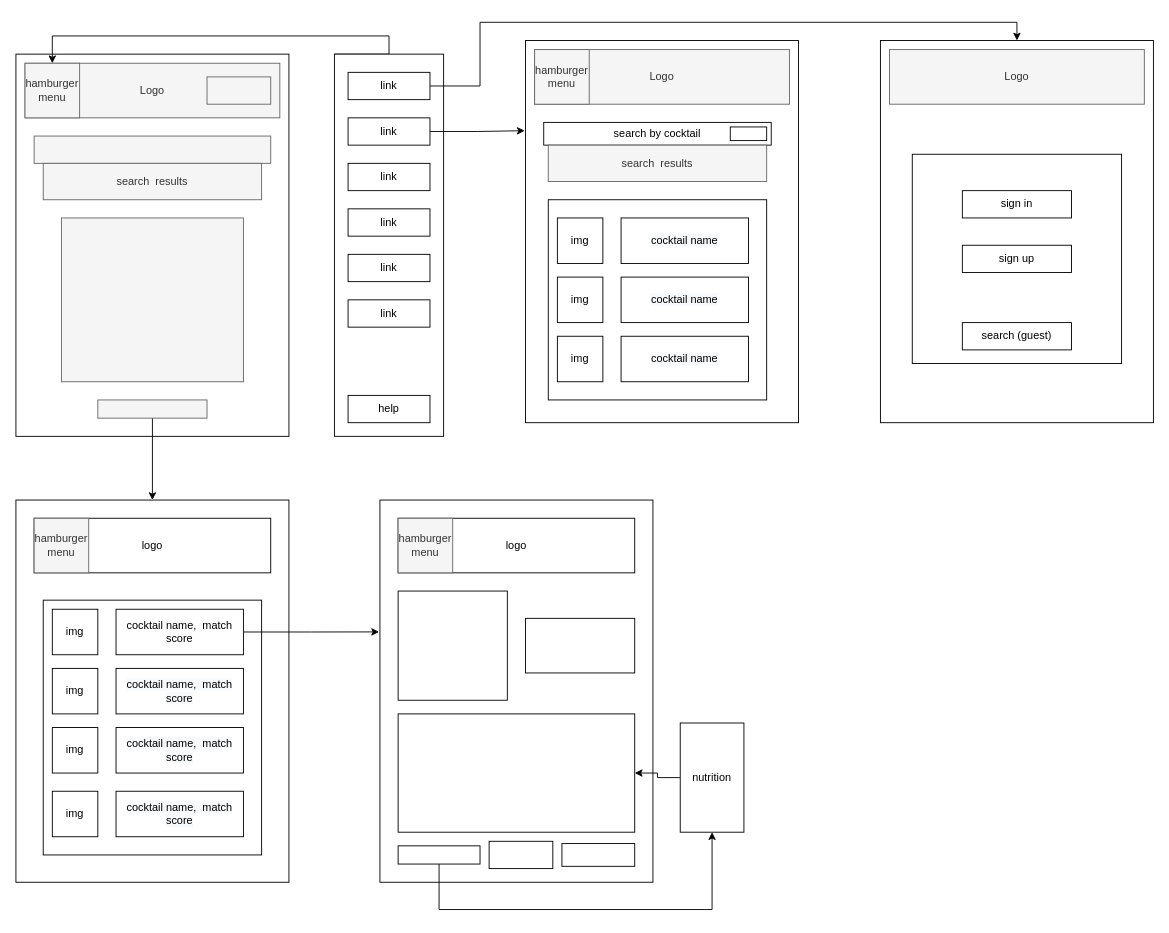
Some shapes in this 1169 by 933 pixel diagram are drawn without their labels. Here are the shapes that lost their labels. From the top down, the box of each, then its label:
(206, 76, 271, 104): sign in (if not already)
(33, 135, 271, 163): search ingredients
(729, 126, 767, 141): filter
(61, 217, 243, 382): list of added ingredients
(97, 399, 207, 418): search for recipes
(397, 590, 507, 700): img of drink
(525, 617, 635, 673): name of drink
(397, 713, 635, 832): recipe for drink with missing items highlighted
(397, 845, 480, 864): nutrition button
(488, 840, 553, 869): save recipe
(561, 843, 635, 866): rating
